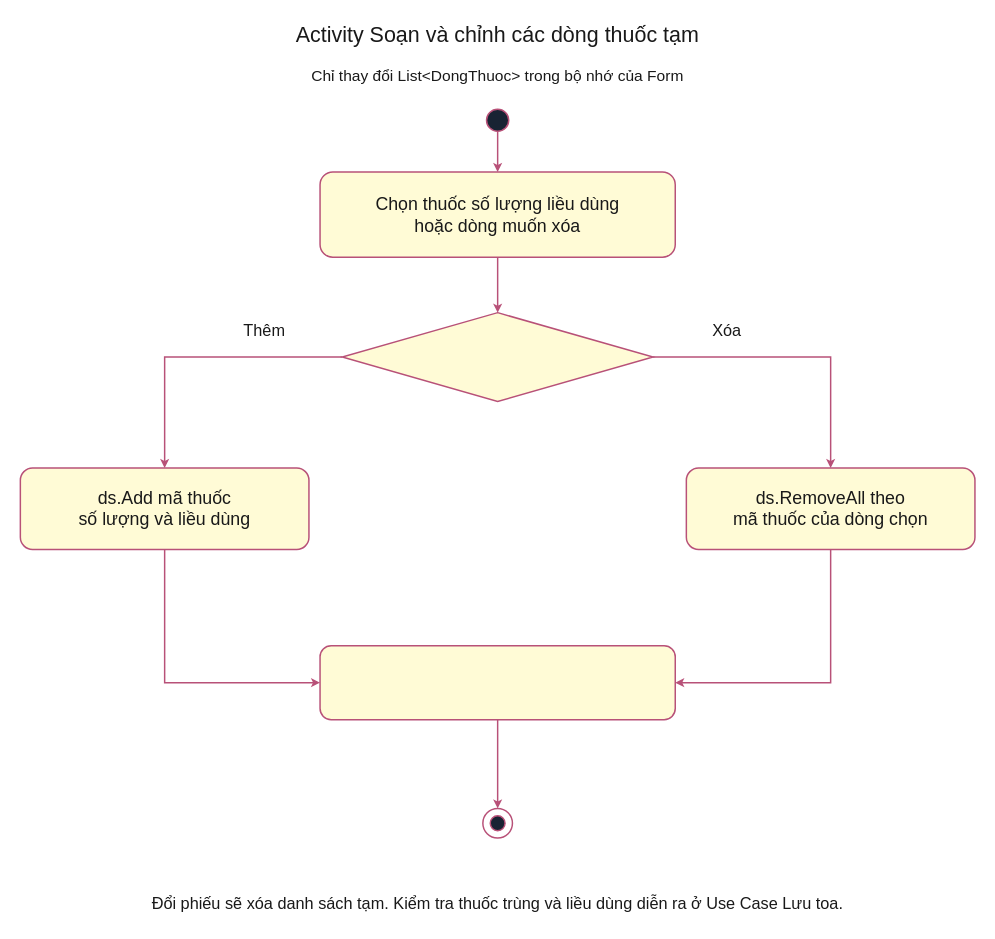
Some shapes in this 995 by 939 pixel diagram are drawn without their labels. The box of each missing label's shape, as (x1, y1, x2, y2) in pixels:
Nap hiển thị danh sách tạm: (319, 645, 676, 720)
Thêm hay xóa dòng?: (341, 312, 653, 402)
